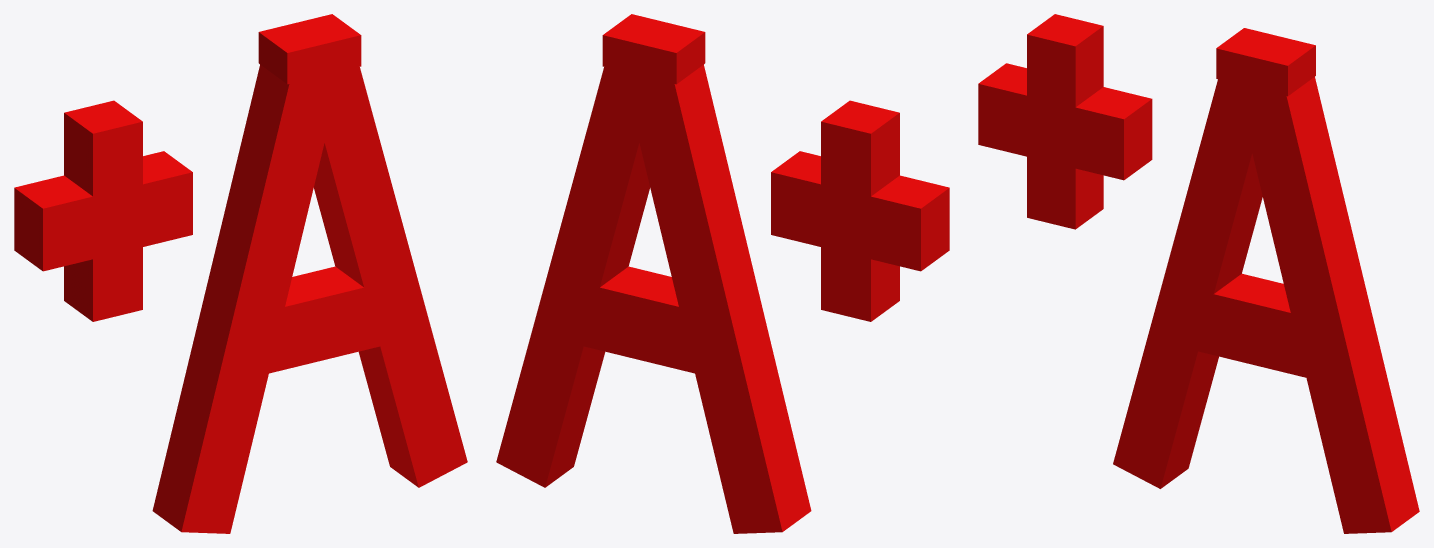
Rendered from aplus5.obj.
The picture shows the model from 3 angles, left to right: view 1: azimuth 30°, elevation 25°; view 2: azimuth 150°, elevation 25°; view 3: azimuth 330°, elevation 25°; orthographic projection. The views are drawn at different scales.
Size of the model in its own units: 3.4 by 3.57 by 0.4.
